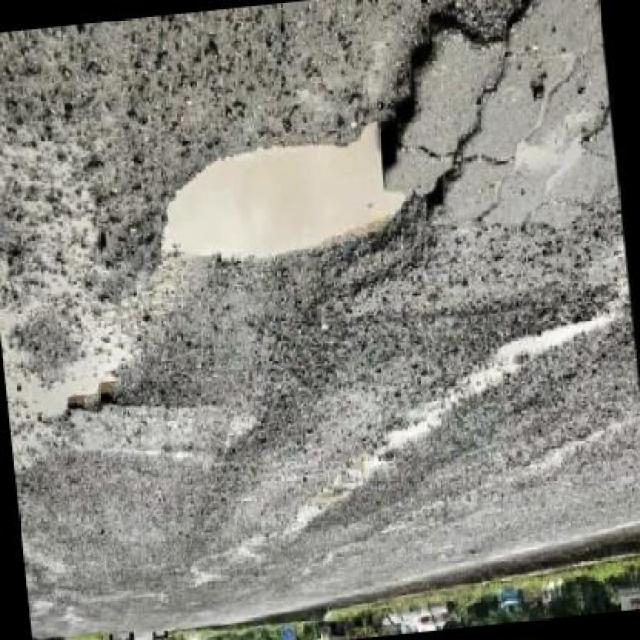pothole1: (145, 107, 464, 287)
